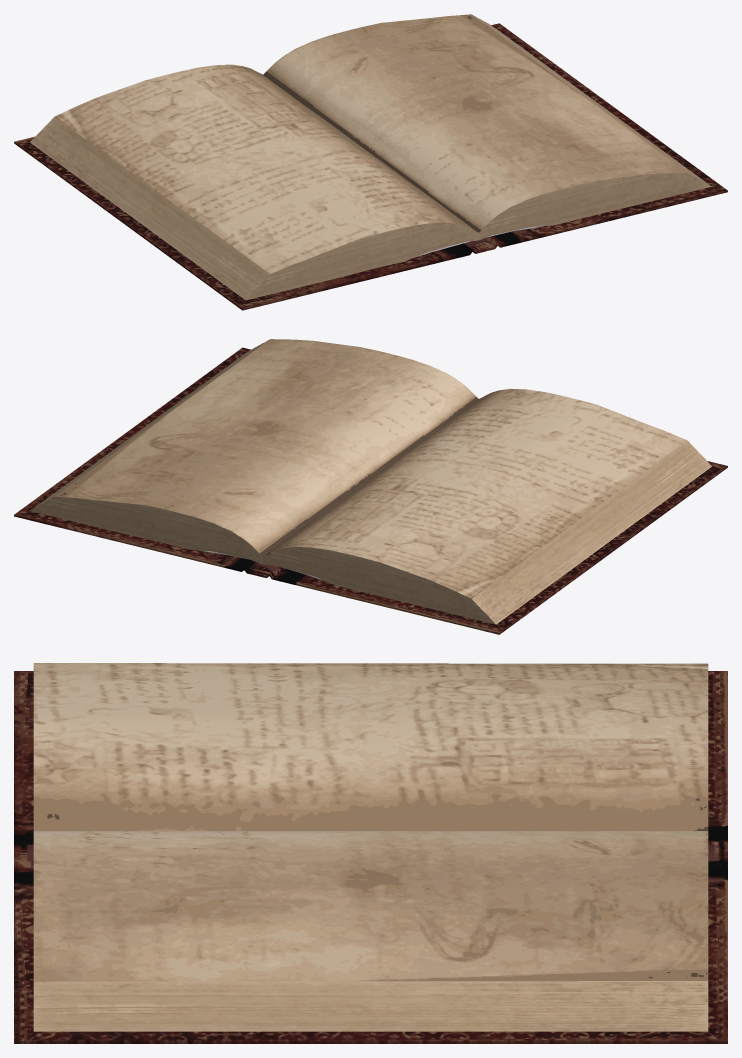
3 views of the same model, one above another, from view 1: azimuth 30°, elevation 25°; view 2: azimuth 150°, elevation 25°; view 3: azimuth 270°, elevation 25° (orthographic). The views are drawn at different scales.
Parts seen in each view (by area): view 1: polySurface23, polySurface21; view 2: polySurface23, polySurface21; view 3: polySurface23, polySurface21.
Part boxes in pixels (<box>): polySurface23: <box>30,14,711,300</box>; polySurface21: <box>14,23,727,310</box>; polySurface23: <box>30,339,711,624</box>; polySurface21: <box>14,347,727,634</box>; polySurface23: <box>33,663,708,1031</box>; polySurface21: <box>14,671,727,1043</box>.
Size of the model in its own units: 2.03 by 0.1511 by 1.65.
5 materials, 3 textured.
